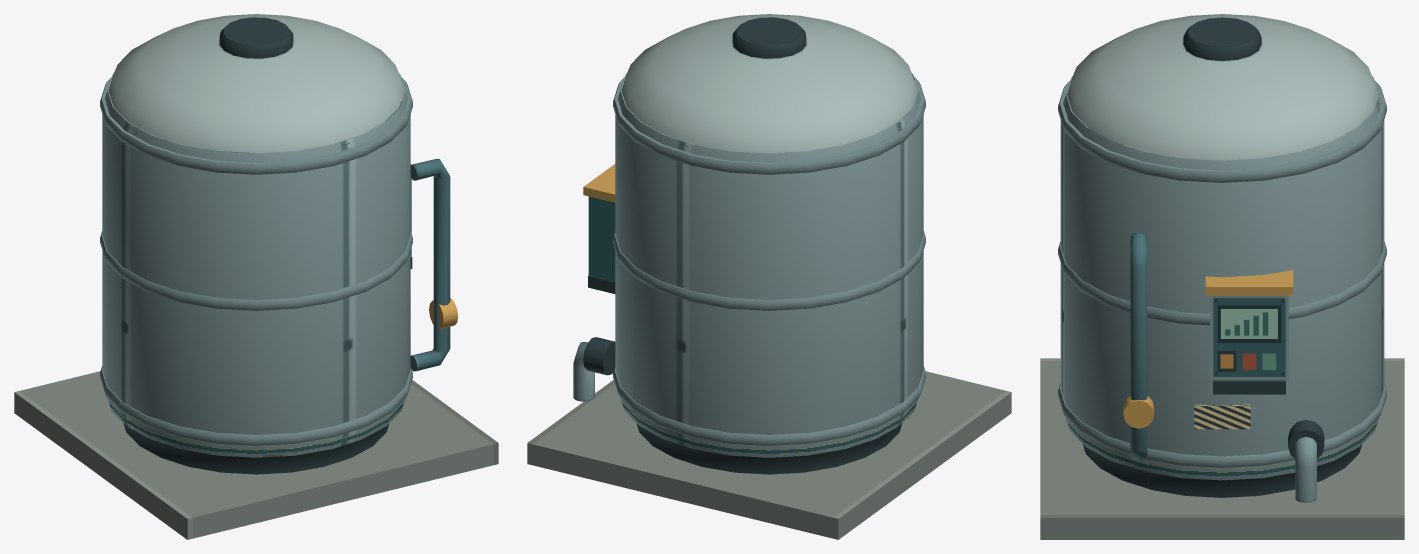
Rendered from SM_EthanolSilo.fbx.
3 views of the same model, side by side, from view 1: azimuth 30°, elevation 25°; view 2: azimuth 150°, elevation 25°; view 3: azimuth 270°, elevation 25° (orthographic). The views are drawn at different scales.
Parts seen in each view (by area): view 1: SM_EthanolSilo; view 2: SM_EthanolSilo; view 3: SM_EthanolSilo.
Part boxes in pixels (x1=…): SM_EthanolSilo: x1=14, y1=14, x2=498, y2=539; SM_EthanolSilo: x1=527, y1=14, x2=1011, y2=539; SM_EthanolSilo: x1=1040, y1=14, x2=1404, y2=539.
Bounding box in the file's own units: 2.8 × 2.7 × 3.5.
Materials: 1 (1 with a texture image).
